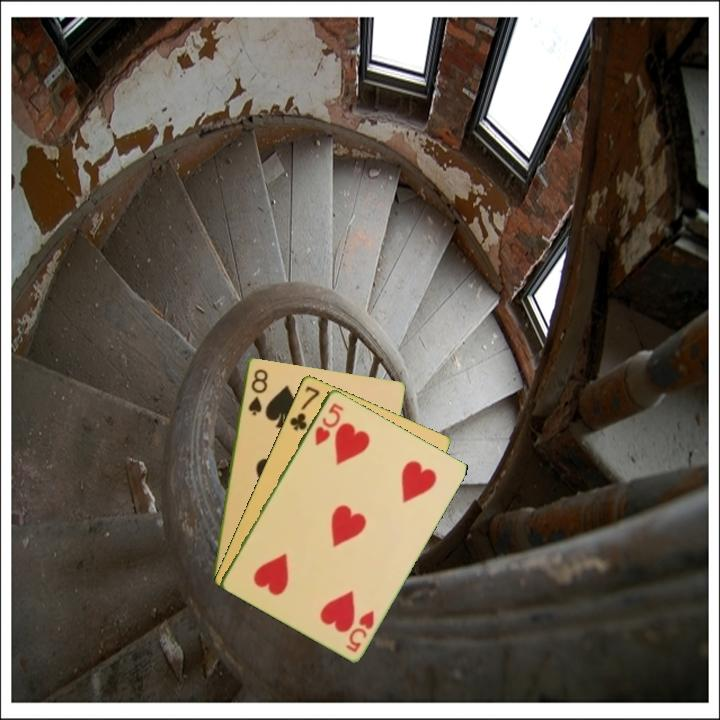5h: (311, 399, 347, 449), (342, 606, 377, 655)
7c: (286, 382, 323, 433)
8s: (245, 365, 270, 418)
